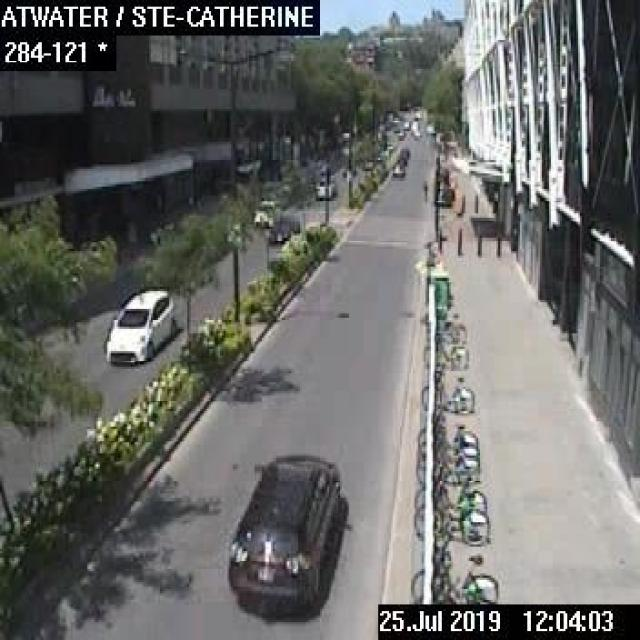vehicle: (228, 455, 341, 613), (104, 284, 174, 364), (268, 212, 298, 245), (253, 198, 278, 225), (314, 178, 334, 198), (391, 158, 404, 176)
